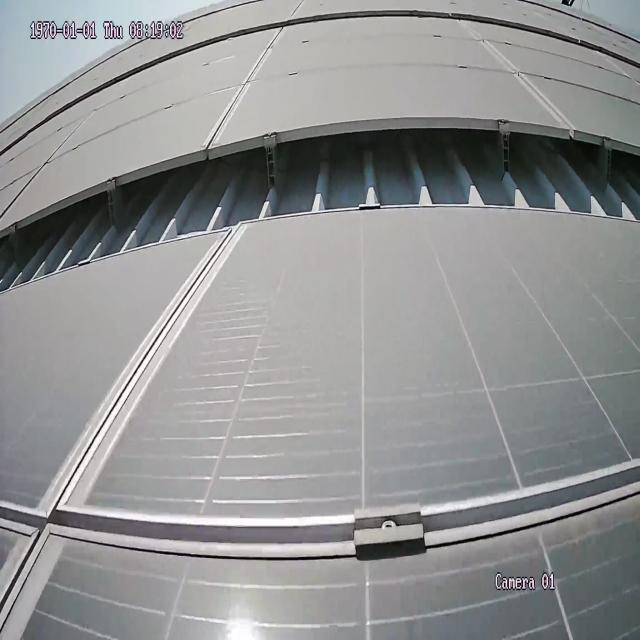interior panel: (0, 251, 637, 638), (470, 33, 573, 123), (208, 46, 277, 135)
outher panel: (1, 125, 640, 299)
